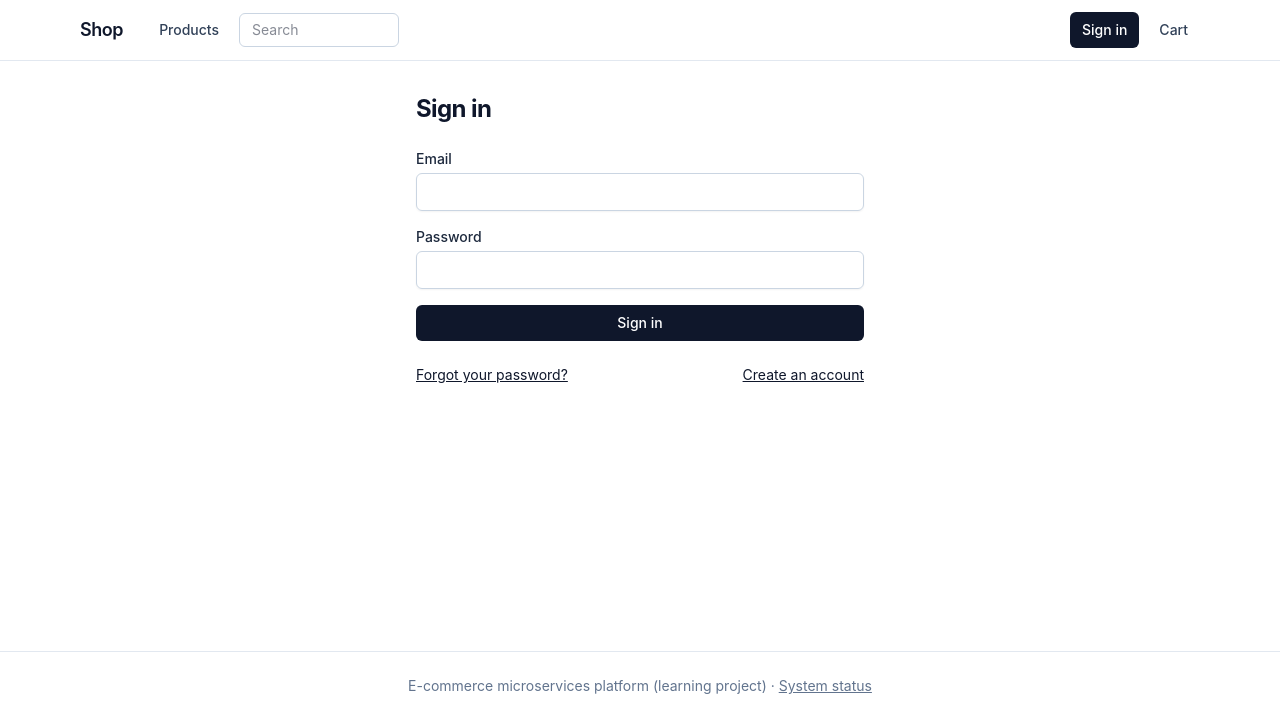
Test case: sign in › one message for any credential failure (no account enumeration)
The image size is (1280, 720).
Type "nobody@example.com" into the field labelled "Email" at (640,192), box [416,173,864,211]
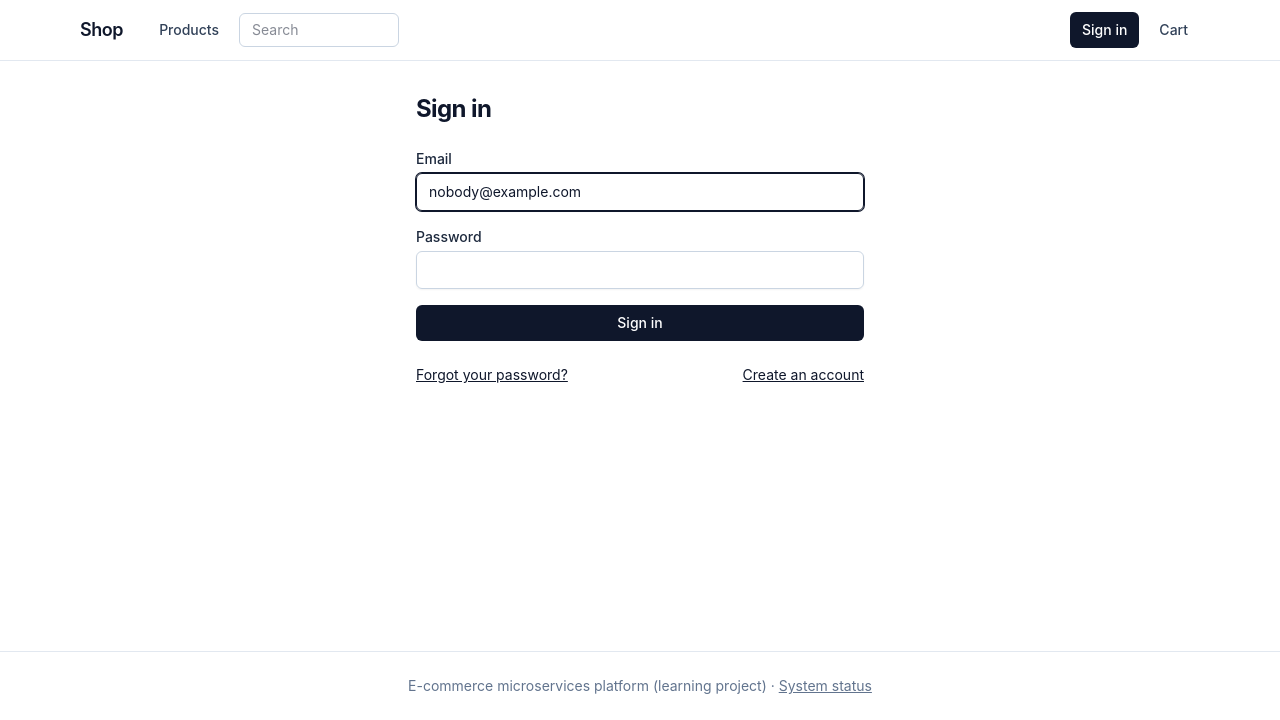
Type "whatever-password" into the password field labelled "Password" at (640,270), box [416,251,864,289]
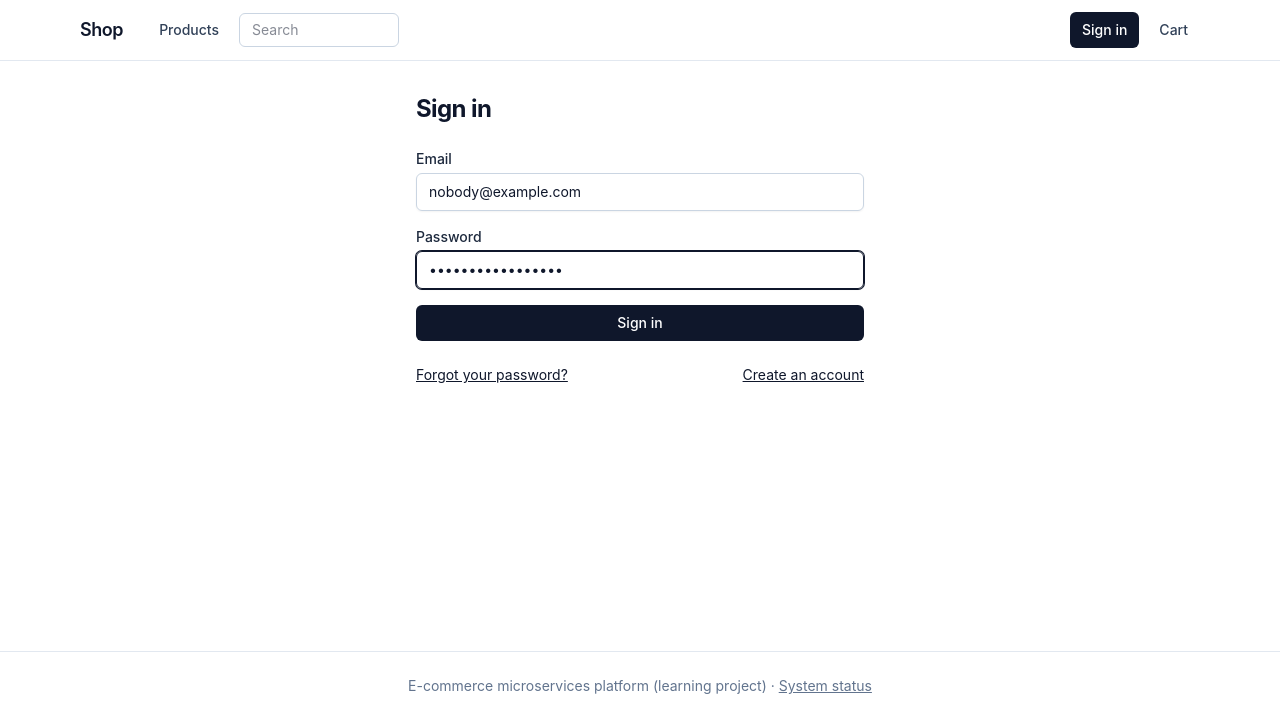
Click the button "Sign in" at (640,323), box [416,305,864,341]
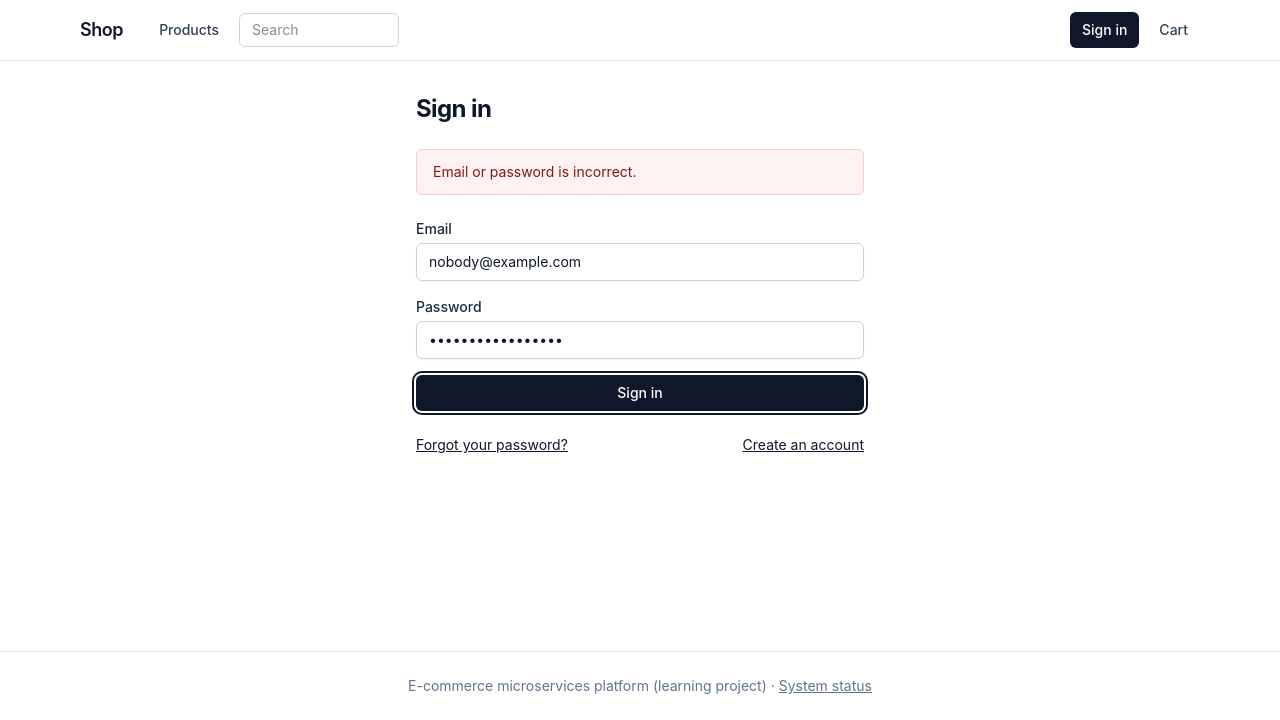
expect the message reads "Email or password is incorrect.": met, box [433,163,636,180]
